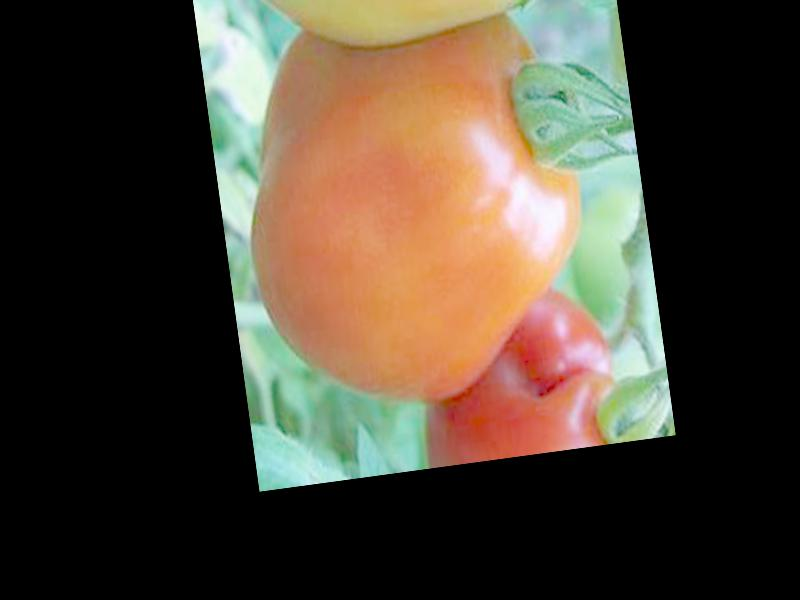Tomato: (226, 14, 604, 422)
